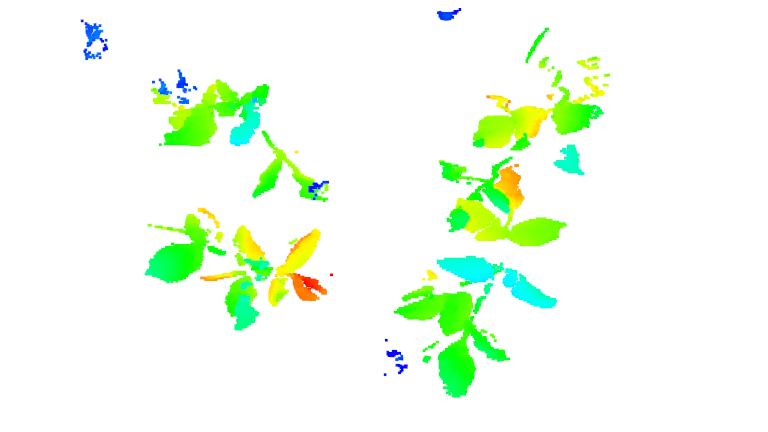mungbean: (391, 211, 567, 401), (443, 65, 612, 229), (151, 75, 334, 202), (135, 217, 328, 329)
